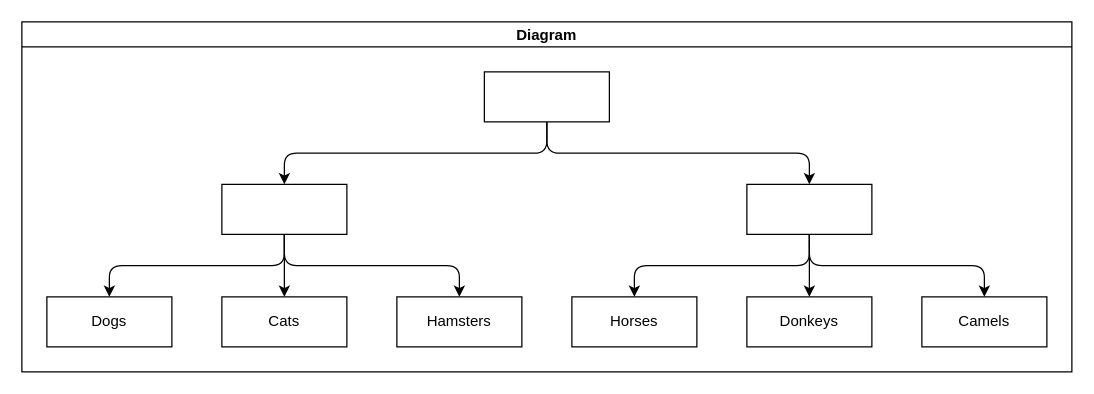
Some shapes in this 1094 by 394 pixel diagram are drawn without their labels. The shapes that lost their labels are listed below. From the top down, each one's centre as x and y in pixels, then its label:
(546,96): Animals
(284,208): Pet animals
(809,208): Pack animals
